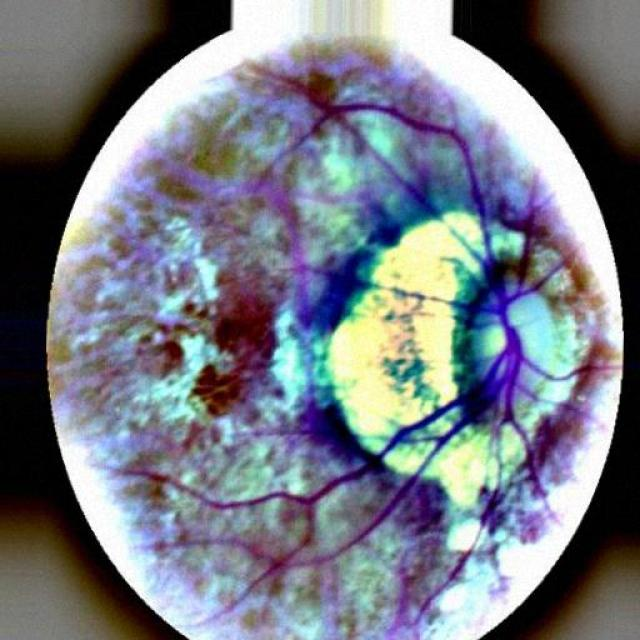Macula: (155, 275, 271, 419)
Nerves: (169, 92, 608, 560), (420, 452, 504, 615)
Optic Disk: (321, 210, 589, 508)
